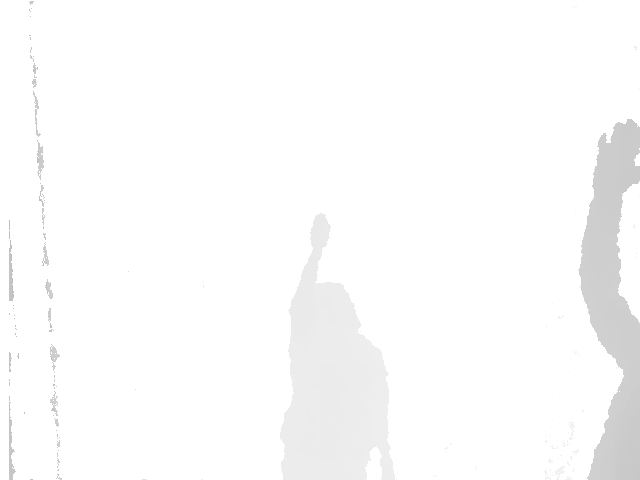hand: (592, 120, 640, 192), (310, 214, 330, 249)
head: (308, 282, 361, 340)
person: (277, 214, 397, 480), (575, 120, 640, 480)
